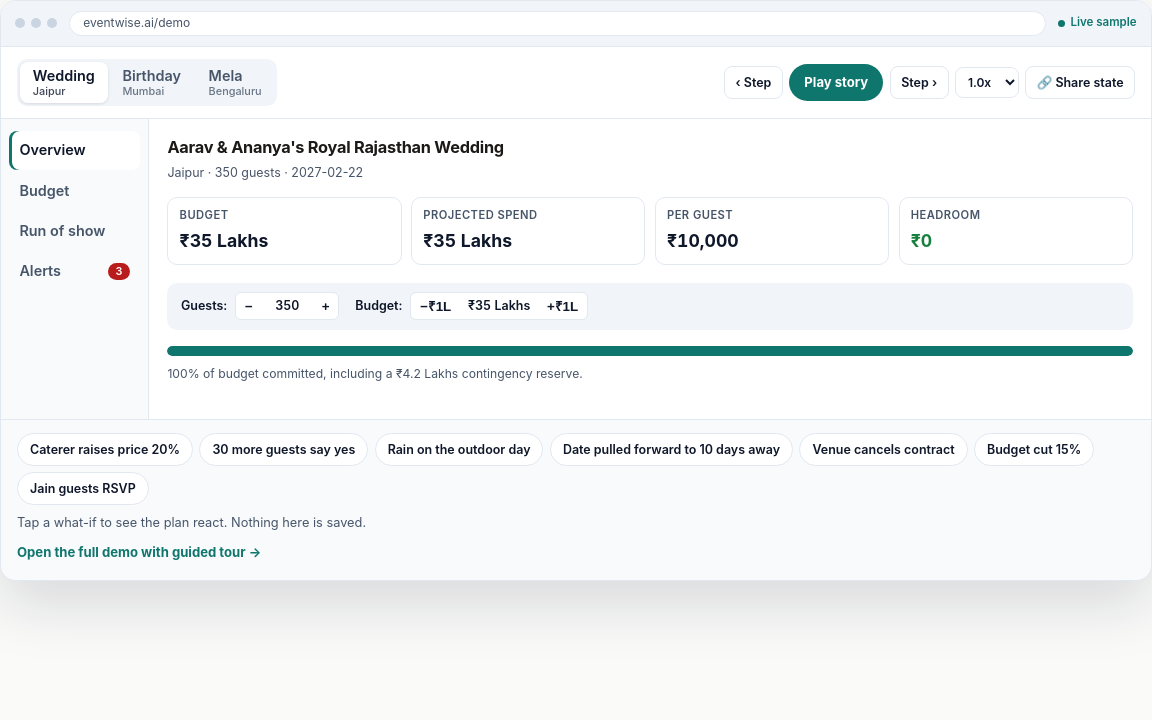
Test: LiveDemoWindow › shows the wedding plan and switches celebrations
The image size is (1152, 720).
expect the heading "Aarav & Ananya's Royal Rajasthan Wedding" is shown: met, box [167,135,504,161]
Click the tab "Birthday Mumbai" at (152, 82), box [110,62,194,103]
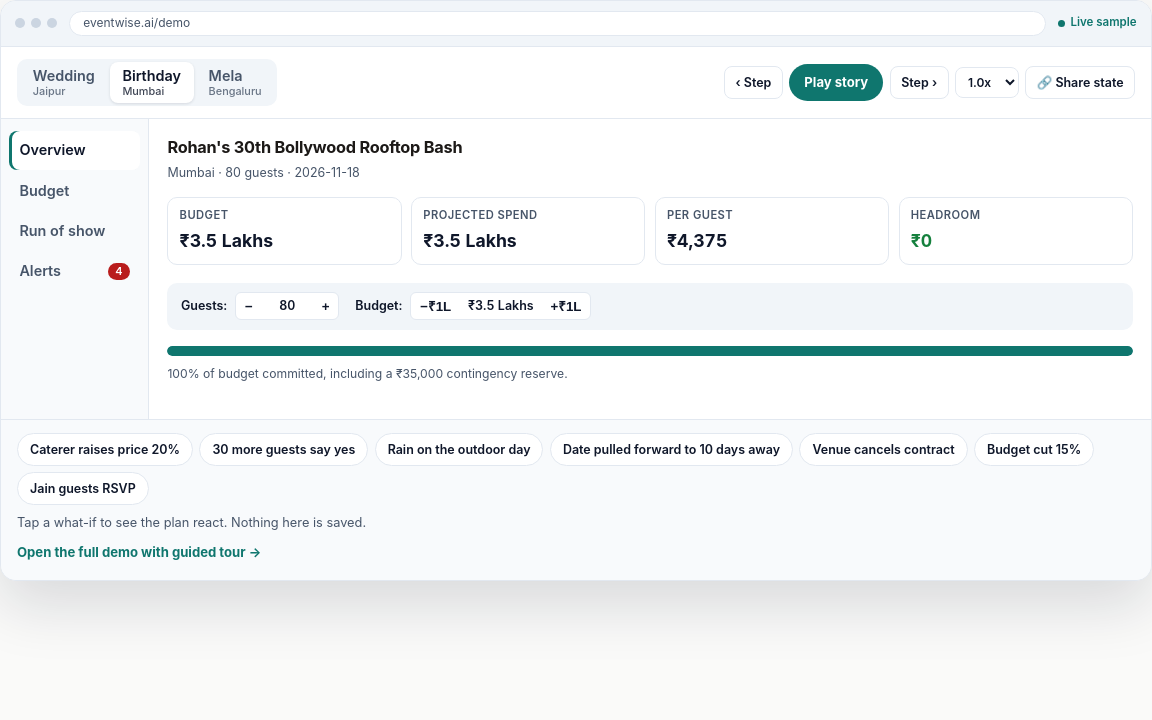
expect the heading "Rohan's 30th Bollywood Rooftop Bash" is shown: met, box [167,135,462,161]
